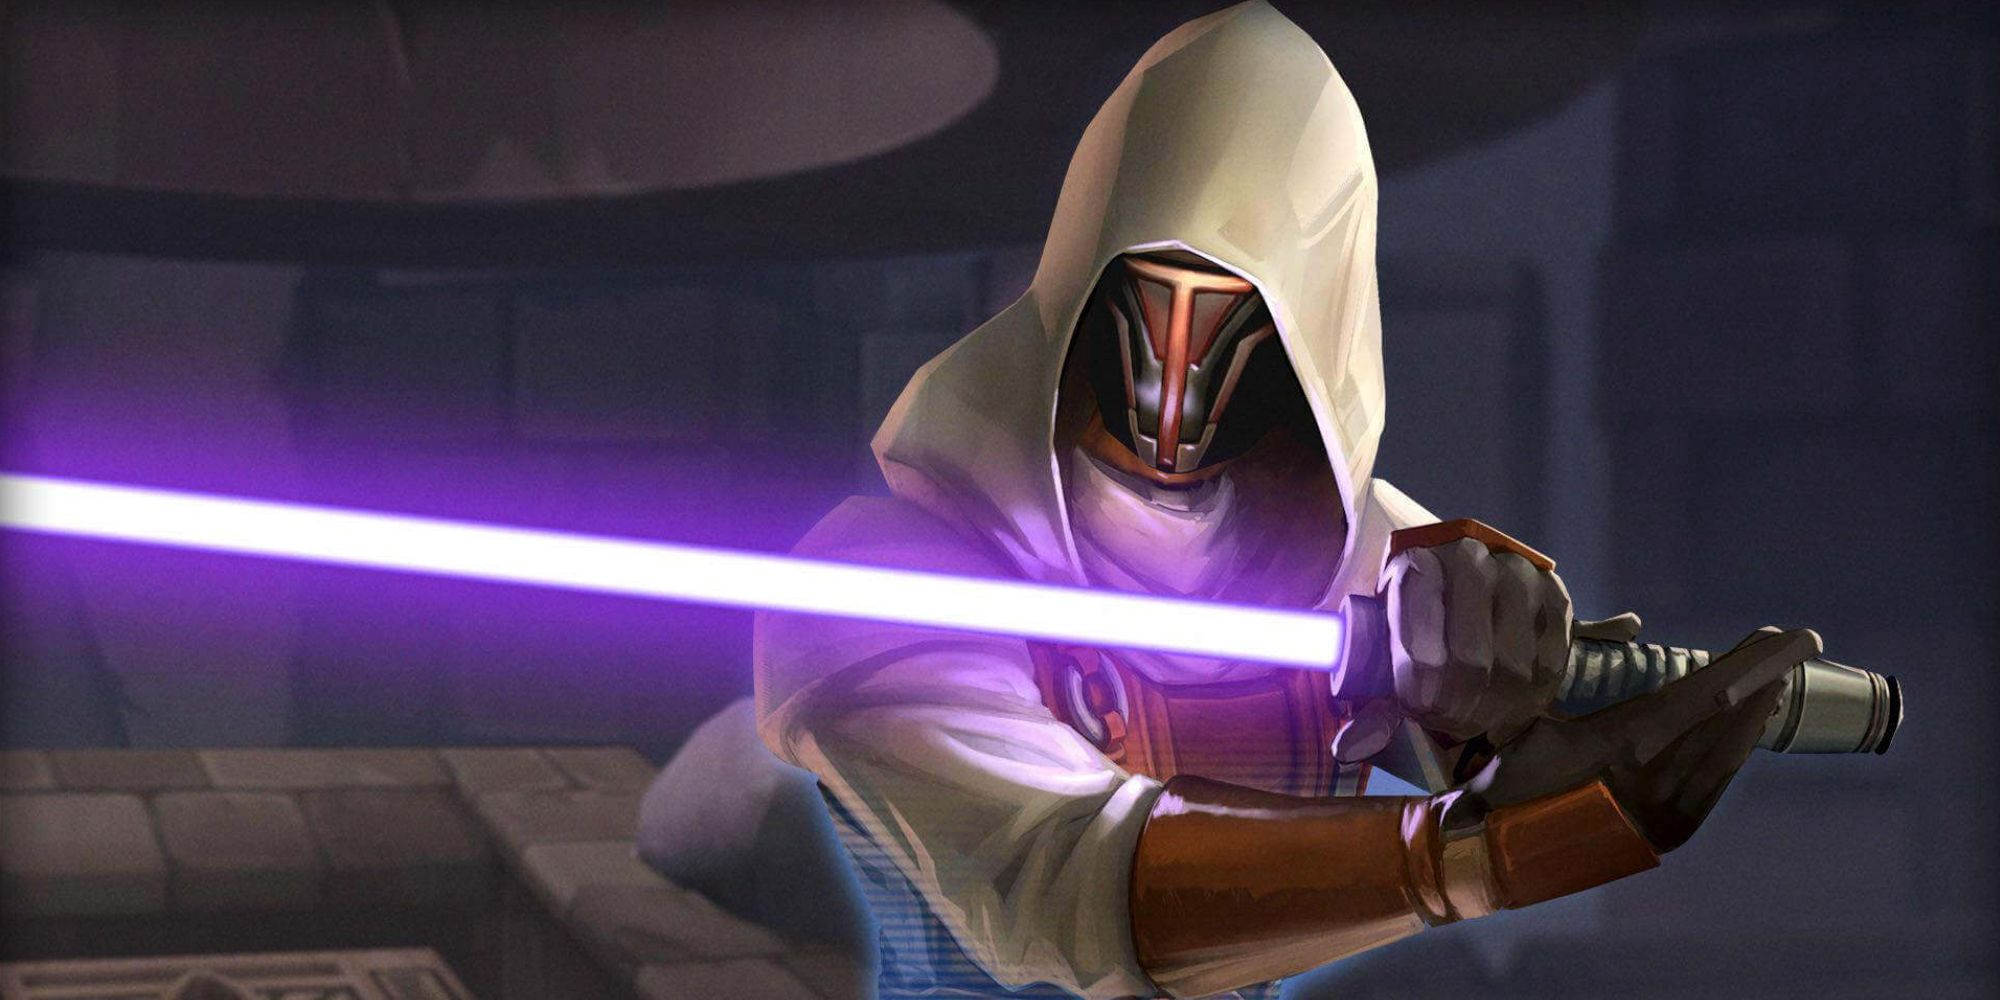lightsaber: (0, 409, 1957, 838)
